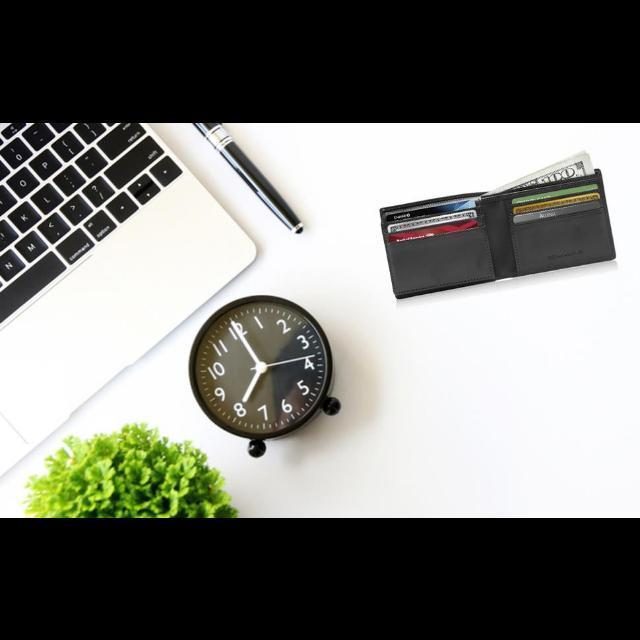wallet: (378, 166, 620, 300)
